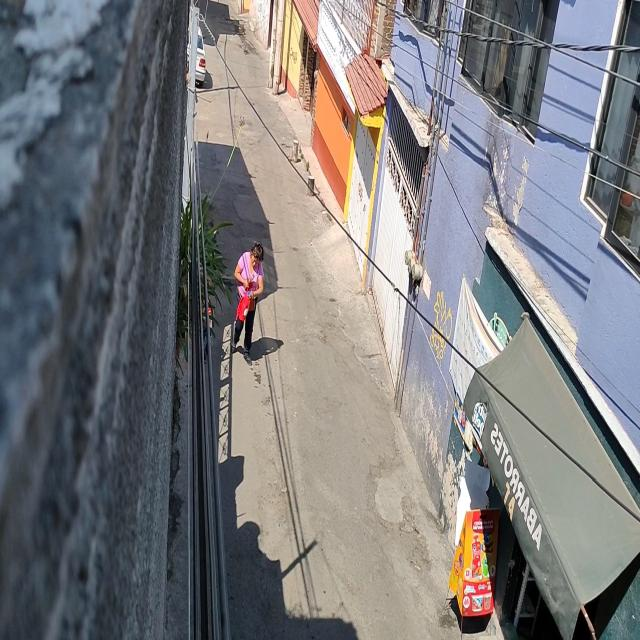adult: (228, 242, 265, 368)
